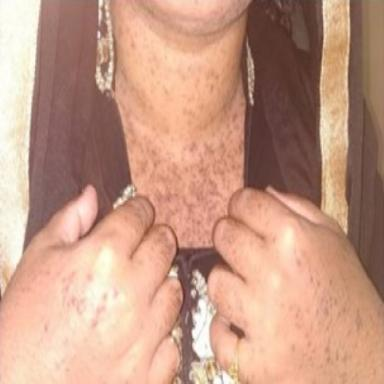Darier_s-Disease: (122, 85, 244, 243)
